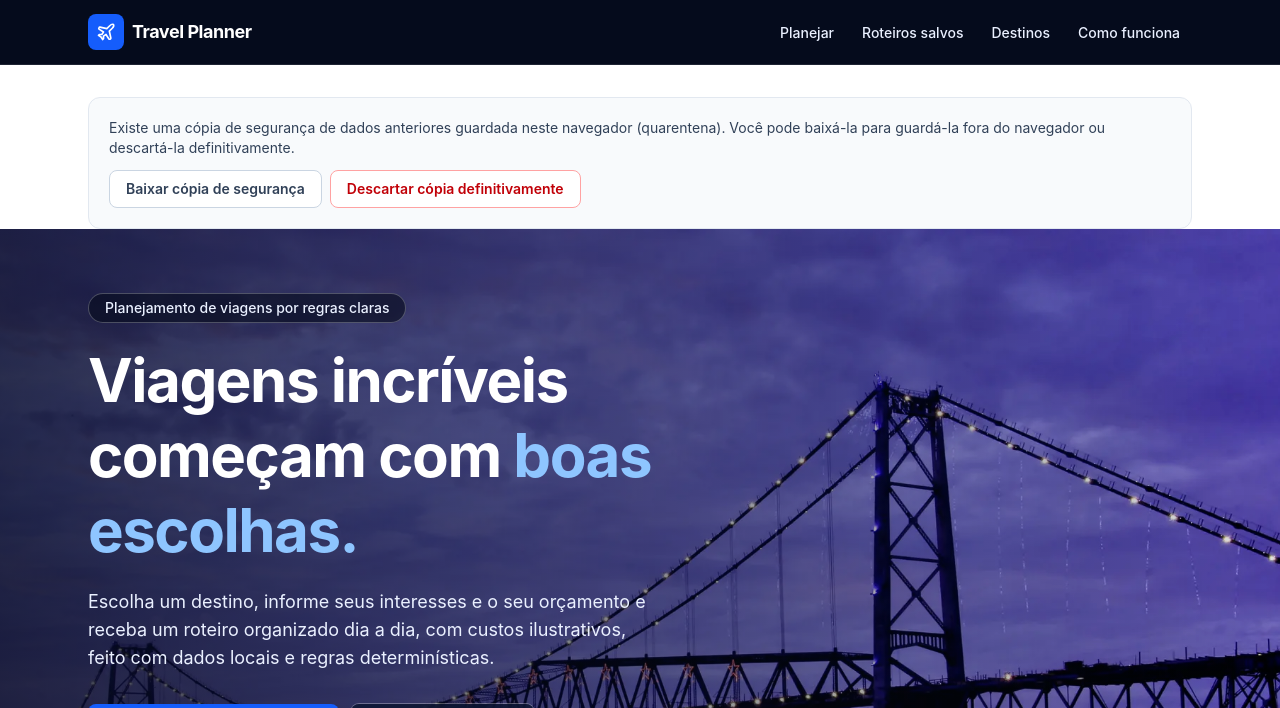
AUD-01 — descarte seguro da quarentena › descarte autorizado e válido: remove exatamente a cópia autorizada e preserva a principal
The image size is (1280, 708).
Click the button "Descartar cópia definitivamente" at (455, 189), box x1=330 y1=170 x2=581 y2=208
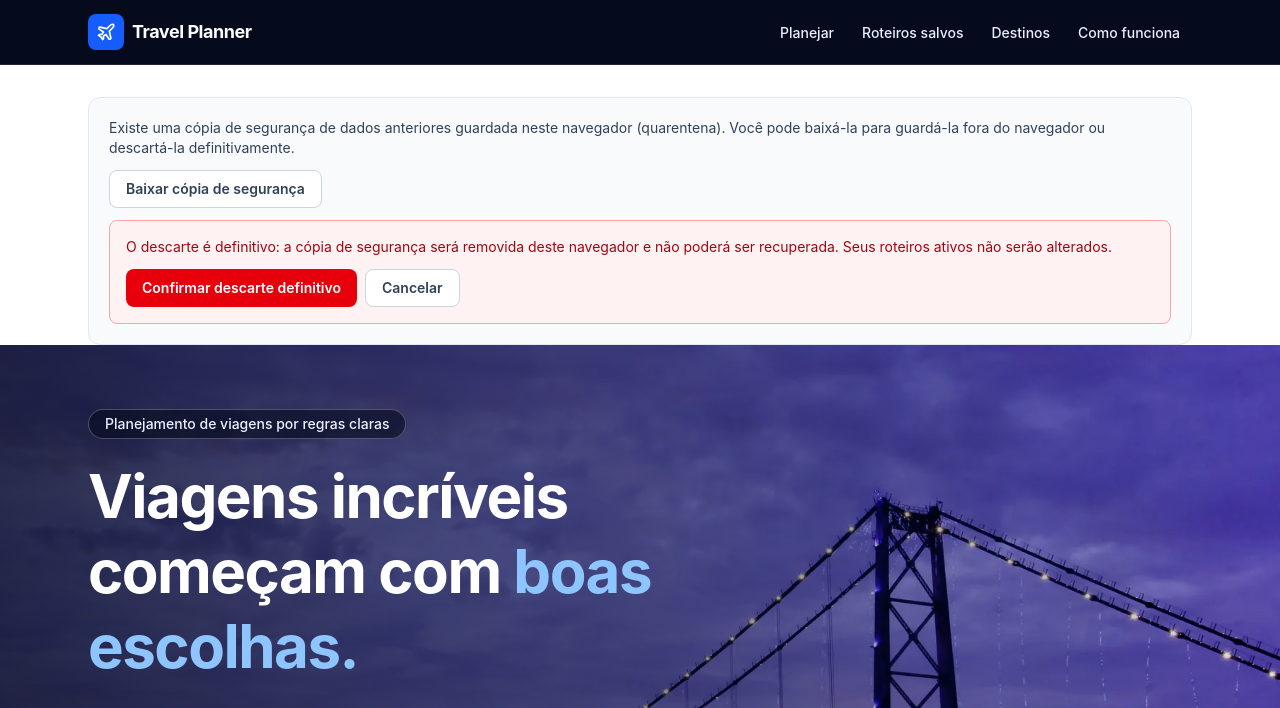
Now the text "O descarte é definitivo" is shown, box x1=126 y1=238 x2=1112 y2=255
Click the button "Confirmar descarte definitivo" at (242, 288), box x1=126 y1=269 x2=357 y2=307
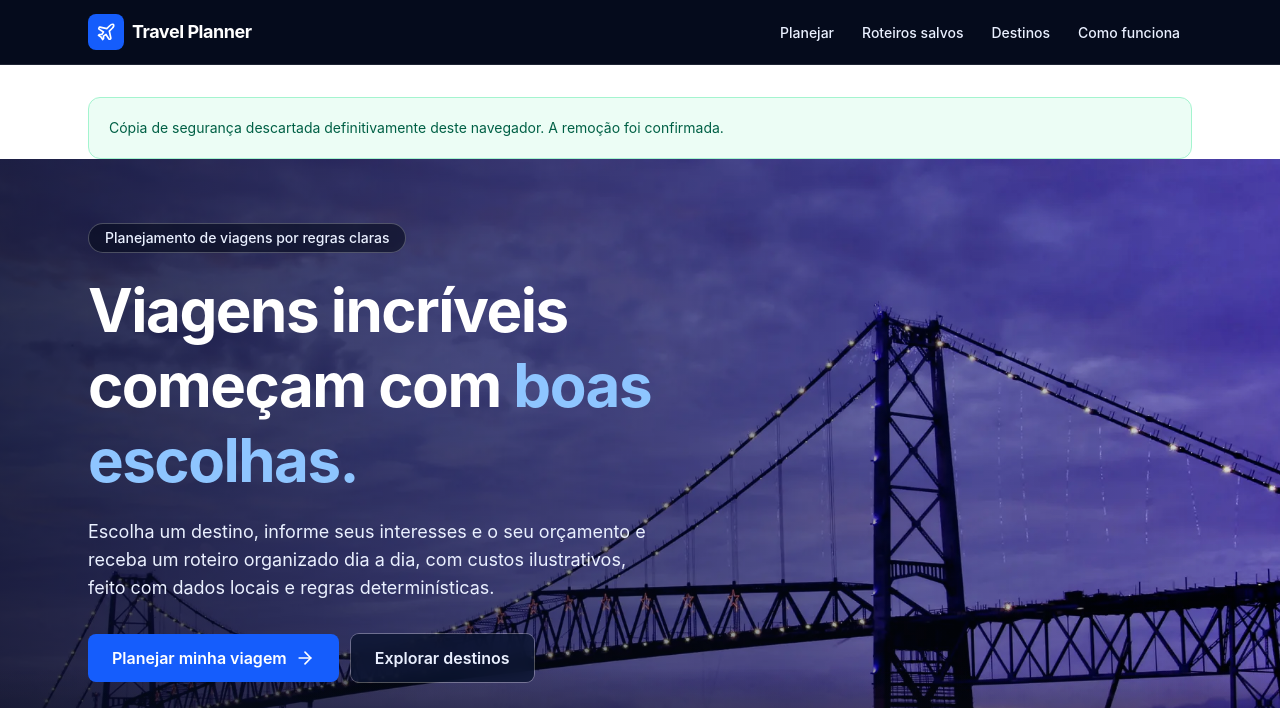
Now the text "Cópia de segurança descartada definitivamente" is shown, box x1=109 y1=119 x2=724 y2=136
